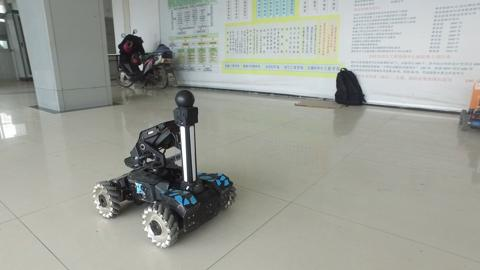bag: (326, 64, 372, 110)
chariot: (89, 86, 242, 252)
